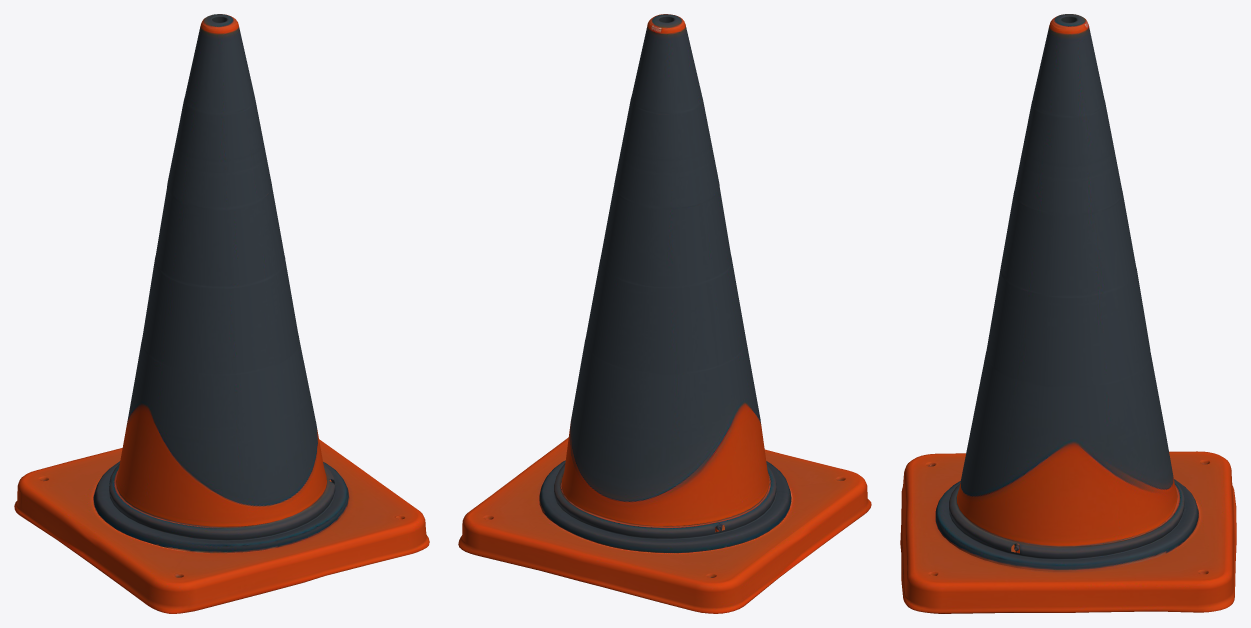
The picture shows the model from 3 angles, left to right: view 1: azimuth 30°, elevation 25°; view 2: azimuth 150°, elevation 25°; view 3: azimuth 270°, elevation 25°; orthographic projection. The views are drawn at different scales.
Parts seen in each view (by area): view 1: tripo_7d7fa36f_1bed_4309_a1da_b84b73f8896c; view 2: tripo_7d7fa36f_1bed_4309_a1da_b84b73f8896c; view 3: tripo_7d7fa36f_1bed_4309_a1da_b84b73f8896c.
Part boxes in pixels (bbox=[...]): tripo_7d7fa36f_1bed_4309_a1da_b84b73f8896c: bbox=[14, 14, 429, 613]; tripo_7d7fa36f_1bed_4309_a1da_b84b73f8896c: bbox=[458, 14, 871, 613]; tripo_7d7fa36f_1bed_4309_a1da_b84b73f8896c: bbox=[900, 14, 1236, 613].
Bounding box in the file's own units: 0.5815 × 0.9995 × 0.5786.
Materials: 1 (1 with a texture image).
